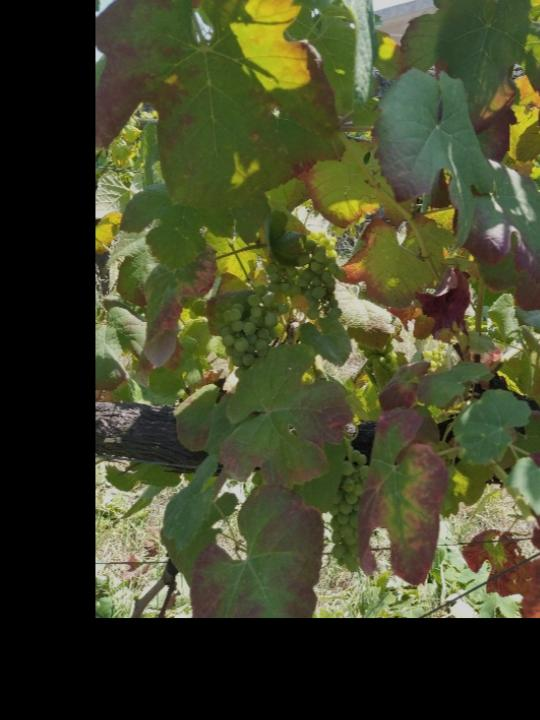grape: (264, 230, 348, 322), (219, 282, 290, 381), (327, 442, 373, 574)
